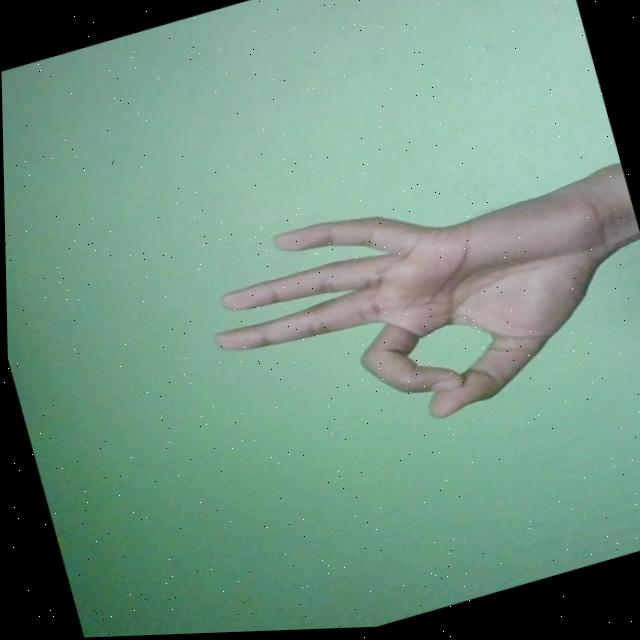Ok: (184, 145, 640, 479)
